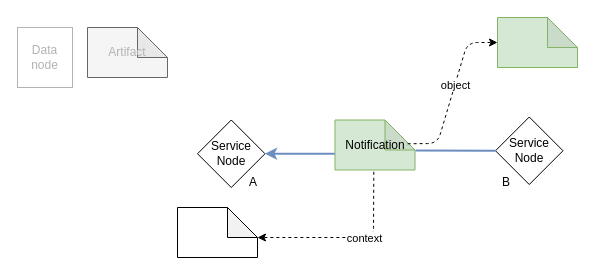
Image size: 595x275. Some labels were removed from this diagram. The centre of each missing label's shape, as x and y in pixels:
"previous Notification" belongs at [537,42].
"Service Result" belongs at [217,232].
